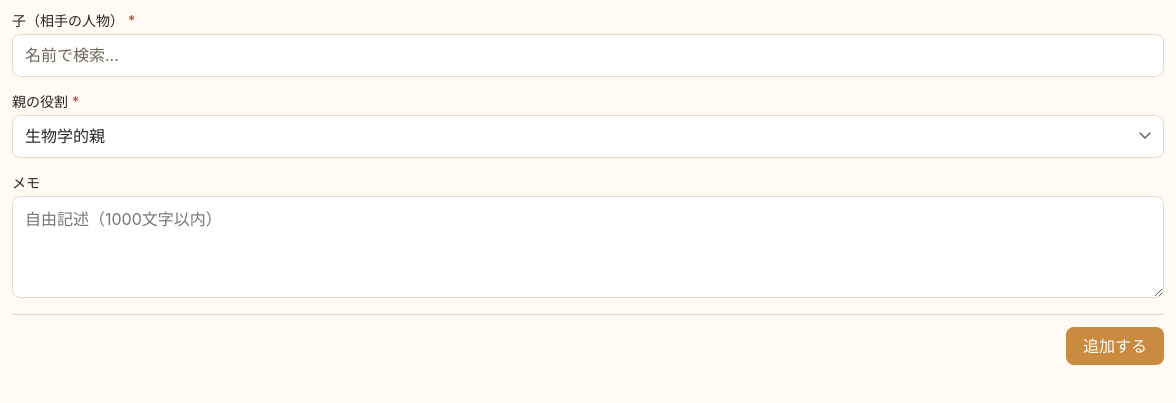
Test: RelationForm (kind=parent_child) › バリデーションエラー › 人物未選択で submit → toPersonId バリデーションエラーが表示される
Click the button "追加する" at (1115, 346), box [1066, 327, 1164, 365]
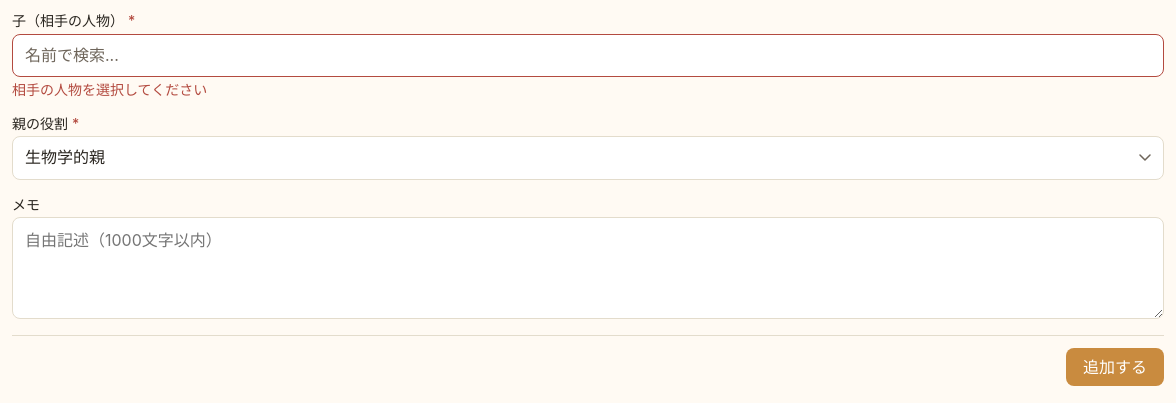
Now the text "相手の人物を選択してください" is shown, box [12, 81, 207, 98]
